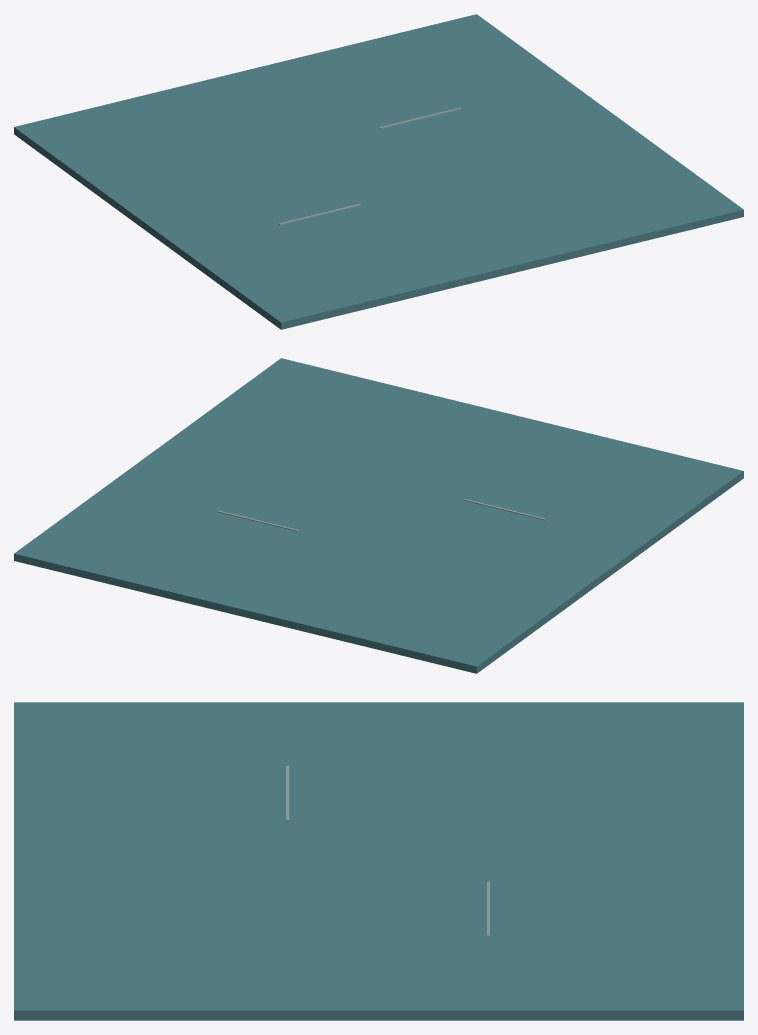
The model's file is water-low.glb.
The picture shows the model from 3 angles, top to bottom: view 1: azimuth 30°, elevation 25°; view 2: azimuth 150°, elevation 25°; view 3: azimuth 270°, elevation 25°; orthographic projection. The views are drawn at different scales.
Visible parts, largest first — view 1: asset_water__FP_Baked; view 2: asset_water__FP_Baked; view 3: asset_water__FP_Baked.
Part boxes in pixels (box(x1,y1,x2,y2)): asset_water__FP_Baked: box(14, 14, 743, 329); asset_water__FP_Baked: box(14, 358, 743, 673); asset_water__FP_Baked: box(14, 702, 743, 1020).
Bounding box in the file's own units: 4 × 0.071 × 4.
